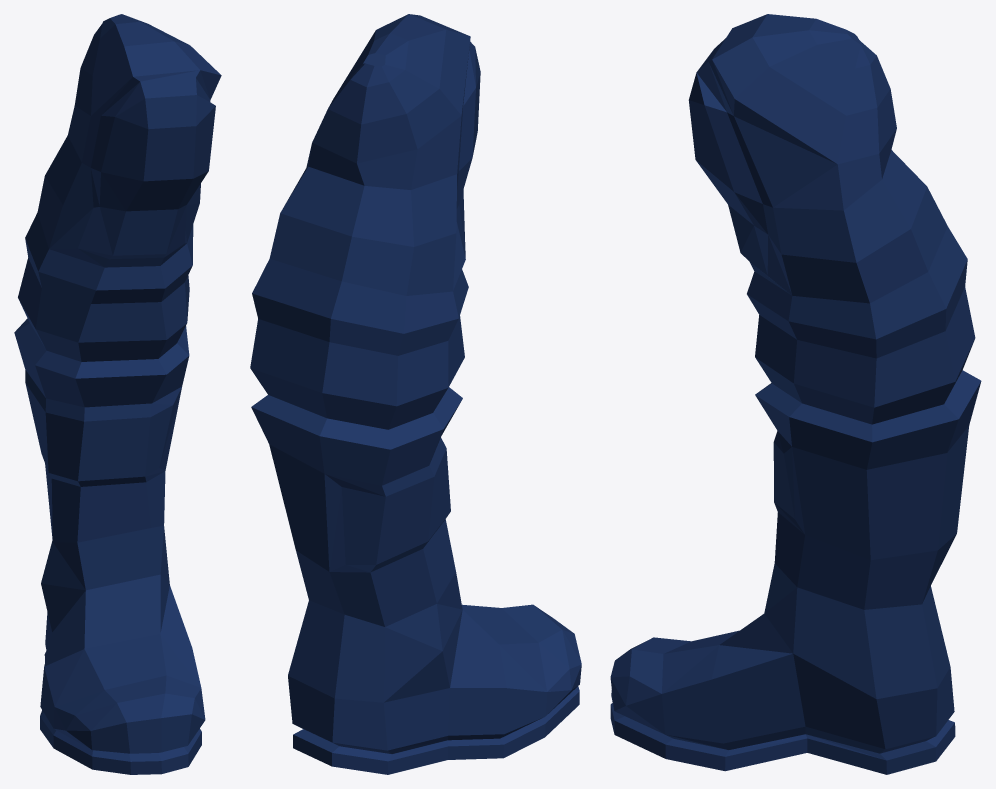
Rendered from right_calf.fbx.
The picture shows the model from 3 angles, left to right: view 1: azimuth 30°, elevation 25°; view 2: azimuth 150°, elevation 25°; view 3: azimuth 270°, elevation 25°; orthographic projection. The views are drawn at different scales.
Visible parts, largest first — view 1: right_leg_calf; view 2: right_leg_calf; view 3: right_leg_calf.
Boxes of the visible parts, <box> form: right_leg_calf: <box>14,14,221,774</box>; right_leg_calf: <box>250,14,581,774</box>; right_leg_calf: <box>610,14,981,774</box>.
Bounding box in the file's own units: 0.2103 × 0.6534 × 0.2983.
